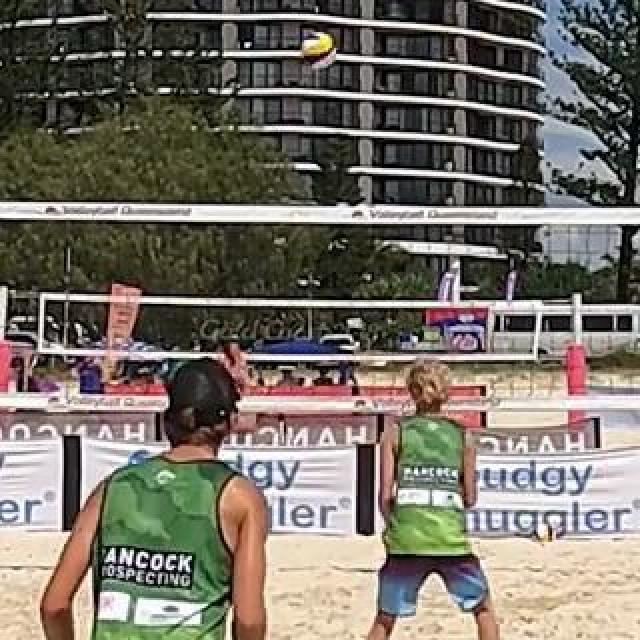volleyball: (301, 32, 337, 66), (533, 522, 553, 544)
